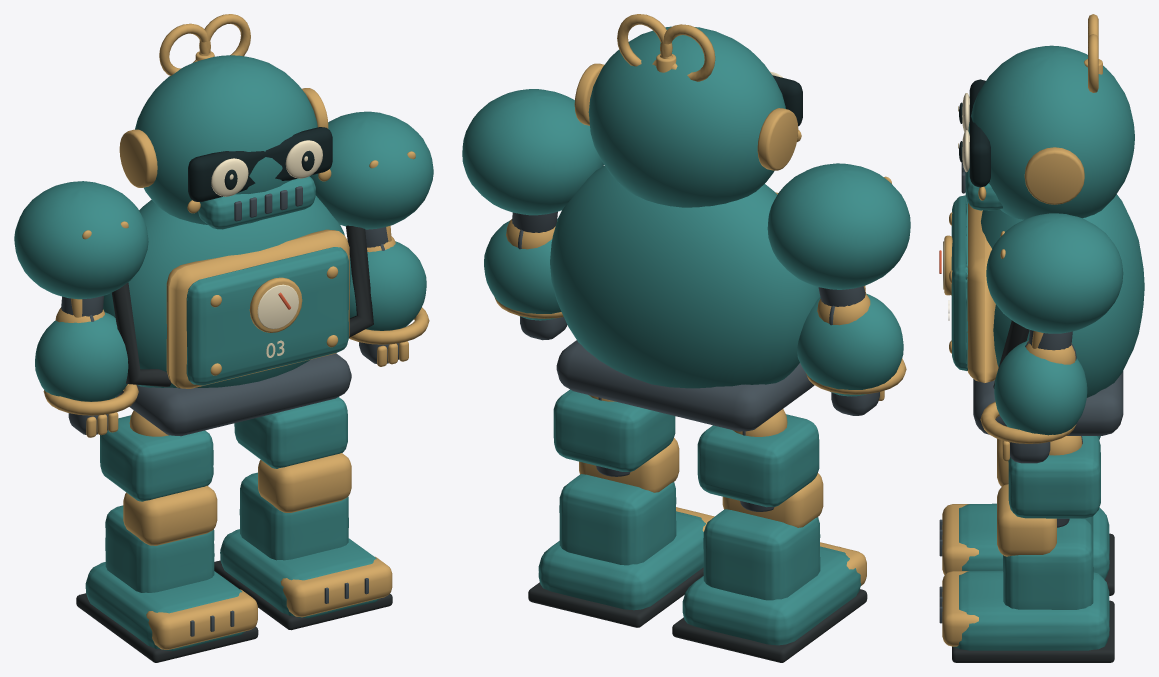
Rendered from boiler_knight.t1.glb.
3 views of the same model, side by side, from view 1: azimuth 30°, elevation 25°; view 2: azimuth 150°, elevation 25°; view 3: azimuth 270°, elevation 25° (orthographic). The views are drawn at different scales.
Visible parts, largest first — view 1: slot_torso__clay_petrol_enamel__clay, slot_head__clay_petrol_enamel__clay, slot_legL__clay_petrol_enamel__clay, slot_legR__clay_petrol_enamel__clay, slot_armL__clay_petrol_enamel__clay, slot_armR__clay_petrol_enamel__clay, slot_torso__forged_bluelead_steel__protected, slot_legL__worn_warm_brass__protected, slot_legR__worn_warm_brass__protected, slot_torso__worn_warm_brass__protected, armL_elbow__clay_petrol_enamel__clay, slot_head__worn_warm_brass__protected (+13 smaller); view 2: slot_torso__clay_petrol_enamel__clay, slot_head__clay_petrol_enamel__clay, slot_legL__clay_petrol_enamel__clay, slot_legR__clay_petrol_enamel__clay, slot_armL__clay_petrol_enamel__clay, slot_armR__clay_petrol_enamel__clay, slot_torso__forged_bluelead_steel__protected, armL_elbow__clay_petrol_enamel__clay, slot_head__worn_warm_brass__protected, armR_elbow__clay_petrol_enamel__clay, slot_legL__worn_warm_brass__protected, slot_legL__charcoal_rubber__protected (+10 smaller); view 3: slot_legR__clay_petrol_enamel__clay, slot_head__clay_petrol_enamel__clay, slot_armR__clay_petrol_enamel__clay, slot_torso__clay_petrol_enamel__clay, armR_elbow__clay_petrol_enamel__clay, slot_legR__worn_warm_brass__protected, slot_torso__worn_warm_brass__protected, slot_head__worn_warm_brass__protected, slot_legL__clay_petrol_enamel__clay, slot_torso__forged_bluelead_steel__protected, slot_legR__charcoal_rubber__protected, slot_legL__worn_warm_brass__protected (+8 smaller).
Part boxes in pixels (bbox=[...]): slot_torso__clay_petrol_enamel__clay: bbox=[103, 195, 351, 388]; slot_head__clay_petrol_enamel__clay: bbox=[135, 55, 317, 229]; slot_legL__clay_petrol_enamel__clay: bbox=[85, 415, 245, 651]; slot_legR__clay_petrol_enamel__clay: bbox=[220, 397, 379, 618]; slot_armL__clay_petrol_enamel__clay: bbox=[14, 181, 148, 299]; slot_armR__clay_petrol_enamel__clay: bbox=[309, 111, 433, 229]; slot_torso__forged_bluelead_steel__protected: bbox=[116, 353, 351, 436]; slot_legL__worn_warm_brass__protected: bbox=[123, 410, 257, 649]; slot_legR__worn_warm_brass__protected: bbox=[258, 453, 392, 617]; slot_torso__worn_warm_brass__protected: bbox=[166, 229, 349, 388]; armL_elbow__clay_petrol_enamel__clay: bbox=[35, 312, 128, 401]; slot_head__worn_warm_brass__protected: bbox=[119, 14, 331, 213]; slot_torso__clay_petrol_enamel__clay: bbox=[550, 165, 820, 388]; slot_head__clay_petrol_enamel__clay: bbox=[588, 26, 785, 207]; slot_legL__clay_petrol_enamel__clay: bbox=[682, 414, 861, 645]; slot_legR__clay_petrol_enamel__clay: bbox=[538, 389, 705, 610]; slot_armL__clay_petrol_enamel__clay: bbox=[767, 163, 910, 289]; slot_armR__clay_petrol_enamel__clay: bbox=[462, 89, 603, 215]; slot_torso__forged_bluelead_steel__protected: bbox=[556, 340, 814, 431]; armL_elbow__clay_petrol_enamel__clay: bbox=[797, 293, 903, 396]; slot_head__worn_warm_brass__protected: bbox=[574, 14, 801, 170]; armR_elbow__clay_petrol_enamel__clay: bbox=[484, 218, 561, 320]; slot_legL__worn_warm_brass__protected: bbox=[722, 409, 866, 585]; slot_legL__charcoal_rubber__protected: bbox=[672, 589, 867, 662]; slot_legR__clay_petrol_enamel__clay: bbox=[953, 436, 1109, 650]; slot_head__clay_petrol_enamel__clay: bbox=[965, 45, 1134, 219]; slot_armR__clay_petrol_enamel__clay: bbox=[986, 213, 1123, 333]; slot_torso__clay_petrol_enamel__clay: bbox=[951, 194, 1144, 397]; armR_elbow__clay_petrol_enamel__clay: bbox=[994, 340, 1087, 435]; slot_legR__worn_warm_brass__protected: bbox=[942, 436, 1082, 646]; slot_torso__worn_warm_brass__protected: bbox=[944, 203, 998, 382]; slot_head__worn_warm_brass__protected: bbox=[978, 14, 1102, 204]; slot_legL__clay_petrol_enamel__clay: bbox=[959, 436, 1109, 579]; slot_torso__forged_bluelead_steel__protected: bbox=[973, 371, 1123, 435]; slot_legR__charcoal_rubber__protected: bbox=[952, 600, 1114, 662]; slot_legL__worn_warm_brass__protected: bbox=[942, 438, 1008, 574].
Bounding box in the file's own units: 1.75 × 2.35 × 0.7576.
